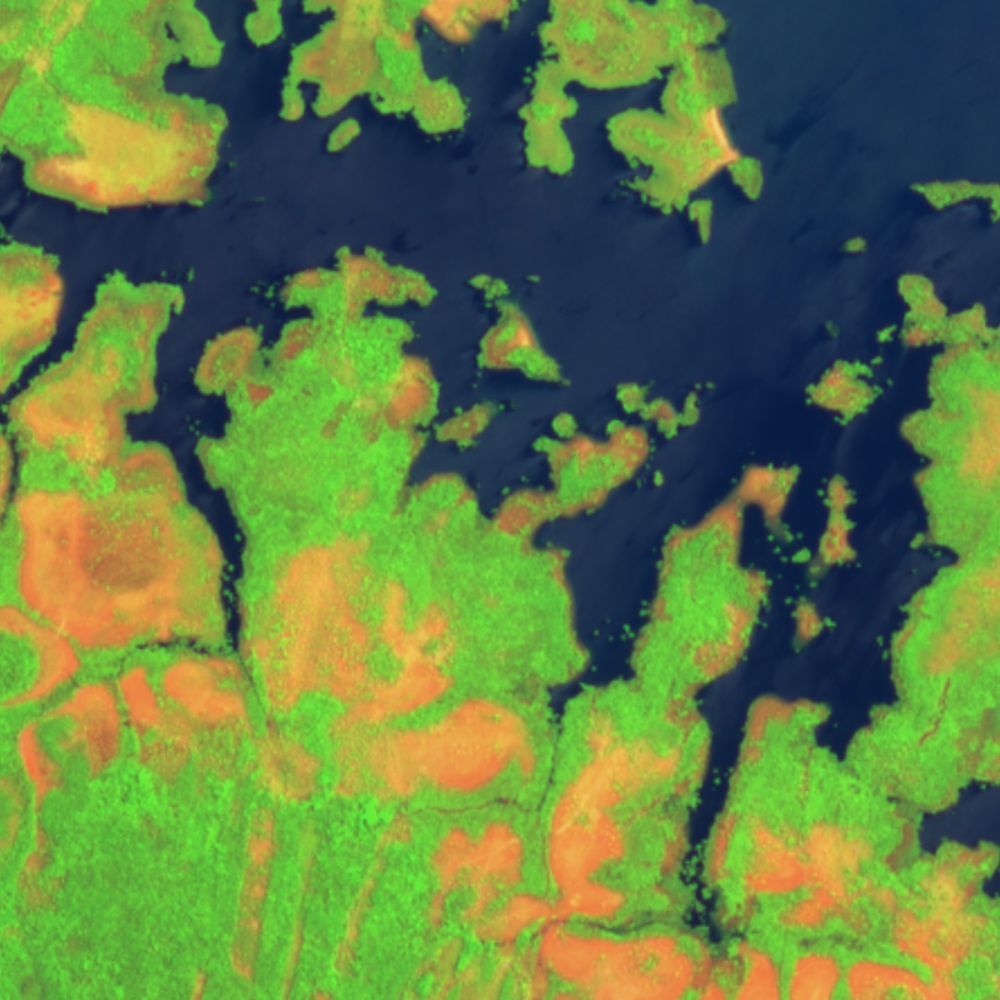legal: (354, 640, 1000, 1000), (1, 289, 329, 792), (508, 1, 761, 243), (260, 1, 530, 155), (1, 64, 235, 209)
